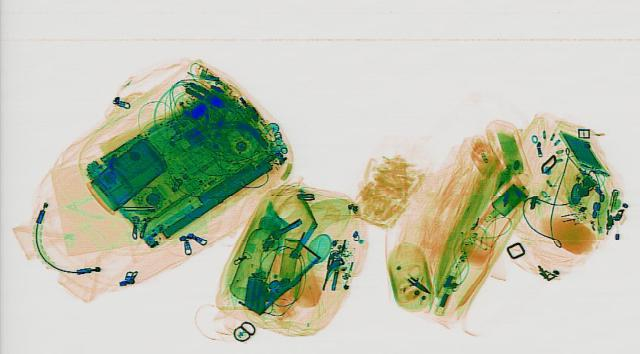Knife: (399, 273, 438, 295)
